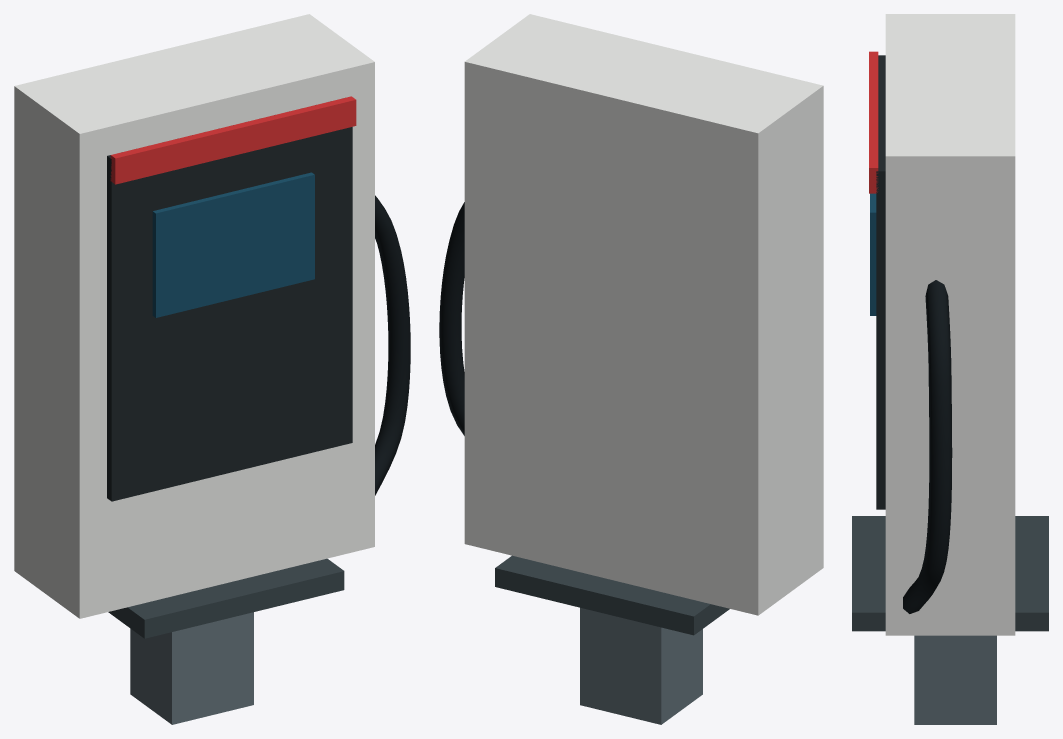
The model's file is delta-dc-wallbox-50kw.glb.
3 renders of one model, left to right at view 1: azimuth 30°, elevation 25°; view 2: azimuth 150°, elevation 25°; view 3: azimuth 270°, elevation 25°, orthographic.
Visible parts, largest first — view 1: Wallbox enclosure, Front fascia, Display, Pedestal, Pedestal base, Delta accent, CCS charging cable; view 2: Wallbox enclosure, Pedestal, Pedestal base, CCS charging cable; view 3: Wallbox enclosure, Pedestal base, CCS charging cable, Pedestal, Front fascia, Delta accent, Display.
Boxes of the visible parts, box(x1,y1,x2,y2) form: Wallbox enclosure: box(14, 14, 374, 618); Front fascia: box(107, 127, 352, 501); Display: box(152, 172, 314, 317); Pedestal: box(130, 612, 253, 724); Pedestal base: box(108, 558, 344, 638); Delta accent: box(110, 96, 356, 184); CCS charging cable: box(375, 195, 410, 495); Wallbox enclosure: box(464, 14, 823, 615); Pedestal: box(580, 607, 702, 724); Pedestal base: box(495, 555, 729, 635); CCS charging cable: box(439, 202, 464, 435); Wallbox enclosure: box(885, 14, 1015, 635); Pedestal base: box(852, 516, 1048, 631); CCS charging cable: box(903, 280, 952, 613); Pedestal: box(914, 635, 996, 724); Front fascia: box(876, 55, 885, 509); Delta accent: box(869, 51, 878, 193); Display: box(870, 193, 876, 315).
Bounding box in the file's own units: 0.7867 × 1.32 × 0.38.
